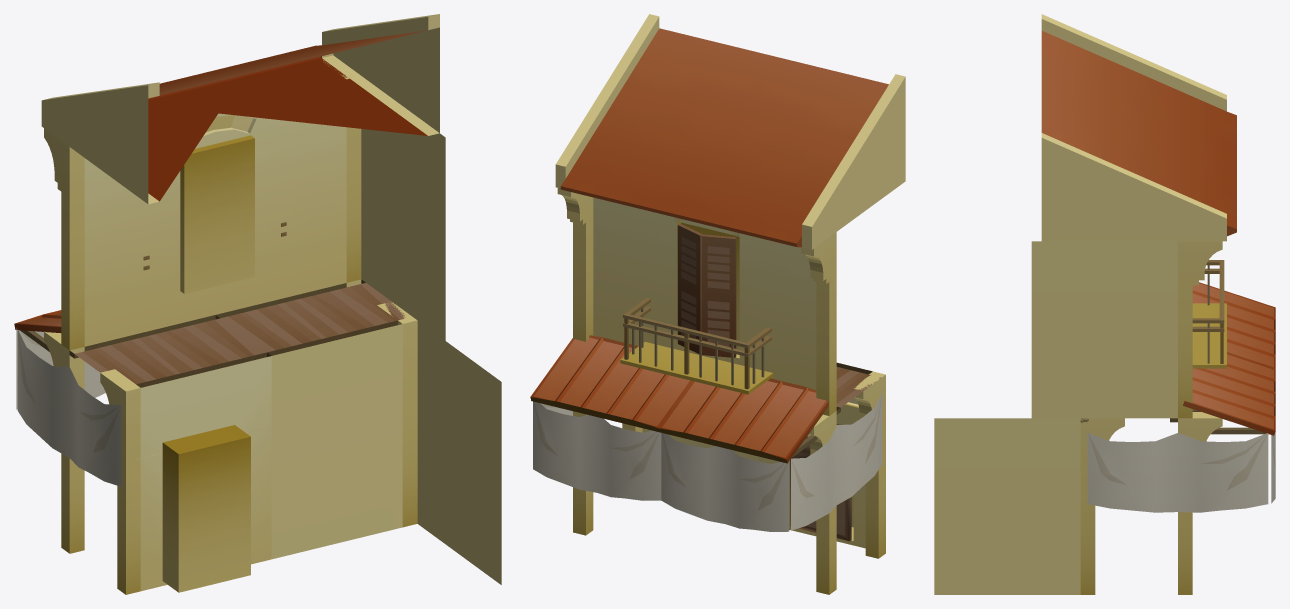
Rendered from SM_Facade_double_fuze_03.fbx.
3 views of the same model, side by side, from view 1: azimuth 30°, elevation 25°; view 2: azimuth 150°, elevation 25°; view 3: azimuth 270°, elevation 25° (orthographic). The views are drawn at different scales.
Visible parts, largest first — view 1: SM_Facade_double_fuze_03; view 2: SM_Facade_double_fuze_03; view 3: SM_Facade_double_fuze_03.
Boxes of the visible parts, left/top/right/bottom form: SM_Facade_double_fuze_03: left=14, top=14, right=501, bottom=594; SM_Facade_double_fuze_03: left=530, top=14, right=905, bottom=594; SM_Facade_double_fuze_03: left=934, top=14, right=1275, bottom=594.
Size of the model in its own units: 619 by 1035 by 700.
